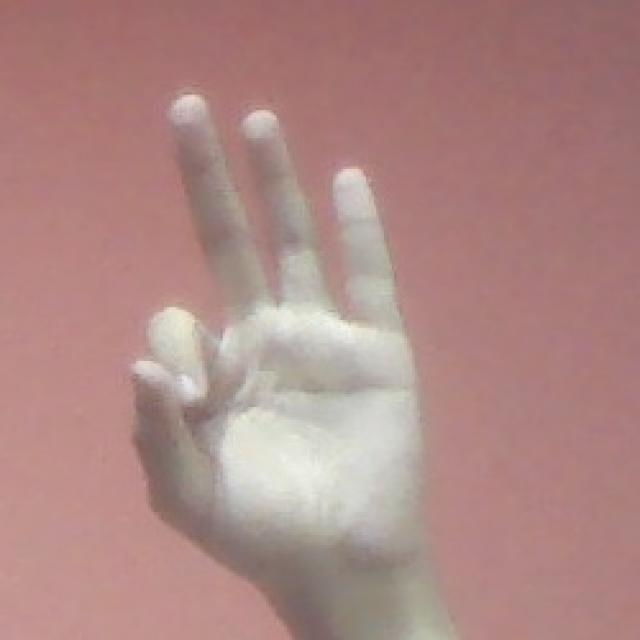Numeric-9: (125, 84, 427, 583)
